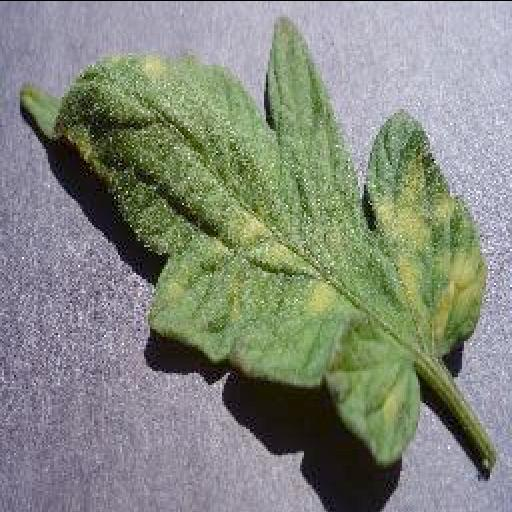disease_tomato: (16, 17, 486, 461)
